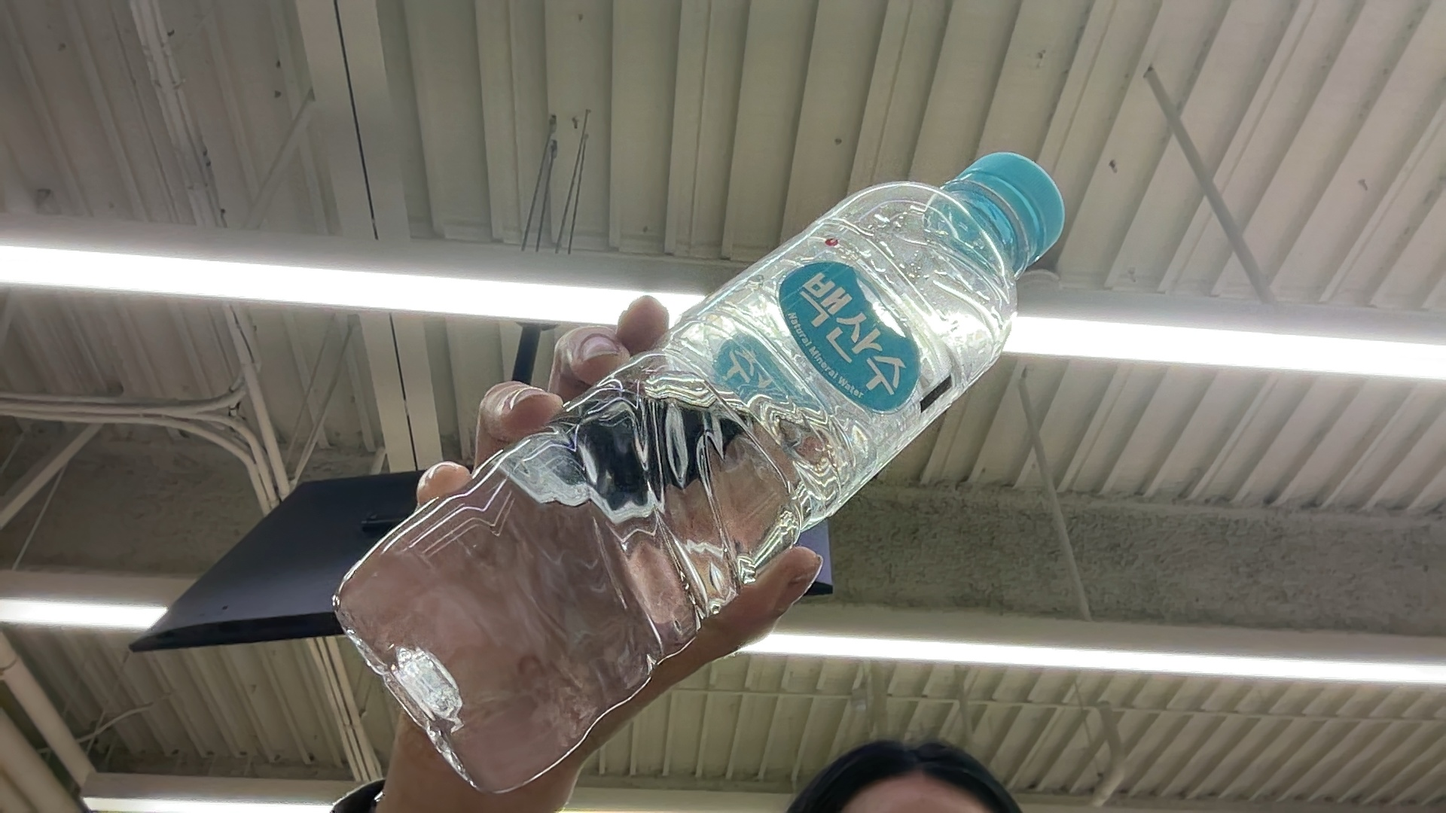Plastic: (295, 127, 1125, 767)
